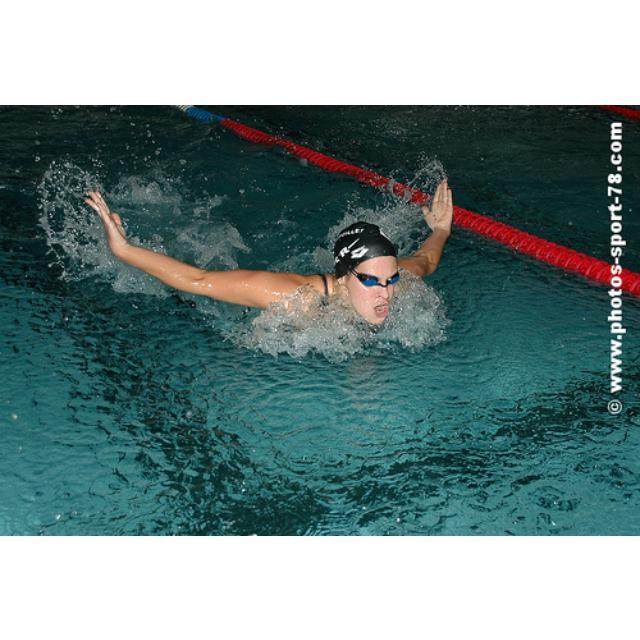human: (84, 162, 457, 336)
